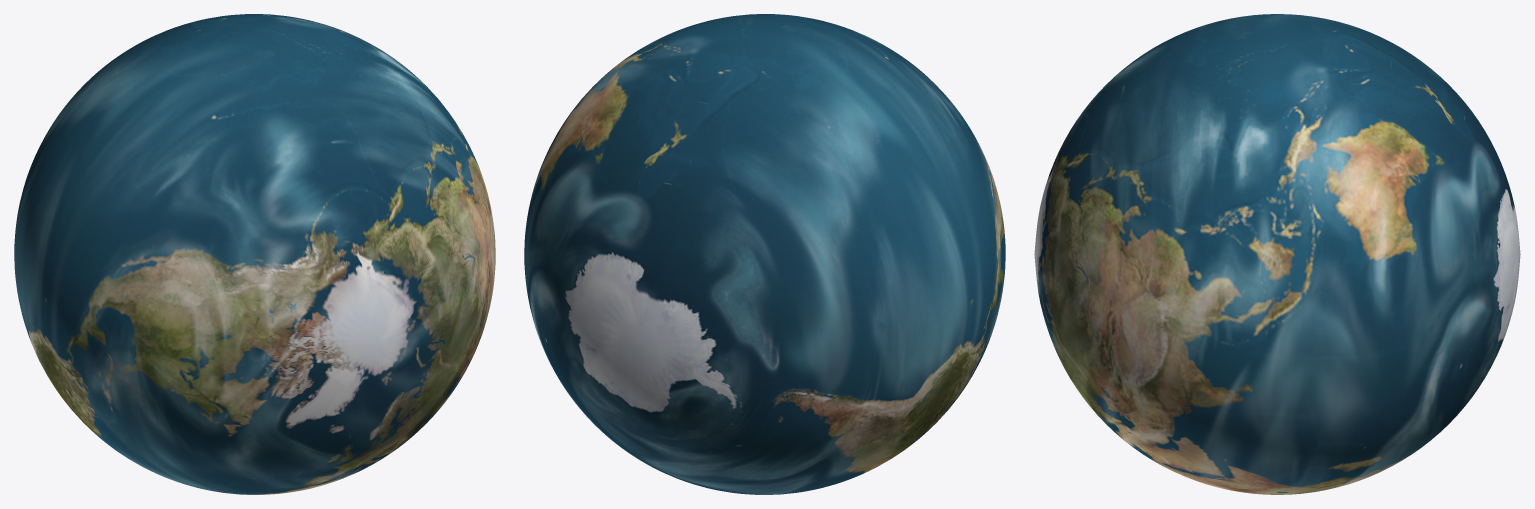
The model's file is 13902_Earth_v1_l3.gltf.
The picture shows the model from 3 angles, left to right: view 1: azimuth 30°, elevation 25°; view 2: azimuth 150°, elevation 25°; view 3: azimuth 270°, elevation 25°; orthographic projection.
Parts seen in each view (by area): view 1: Earth; view 2: Earth; view 3: Earth.
Part boxes in pixels (x1=…): Earth: x1=14, y1=14, x2=495, y2=494; Earth: x1=524, y1=14, x2=1005, y2=494; Earth: x1=1034, y1=14, x2=1520, y2=494.
Bounding box in the file's own units: 976 × 976 × 986.
Materials: 1 (1 with a texture image).
